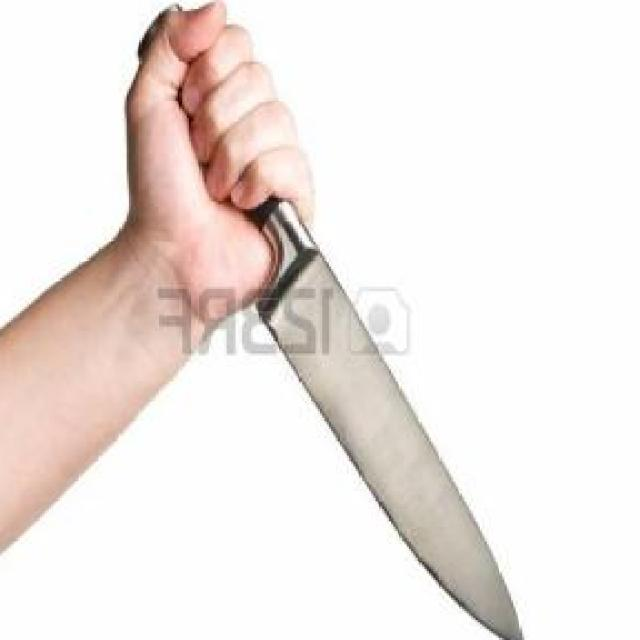knife: (180, 75, 534, 640)
